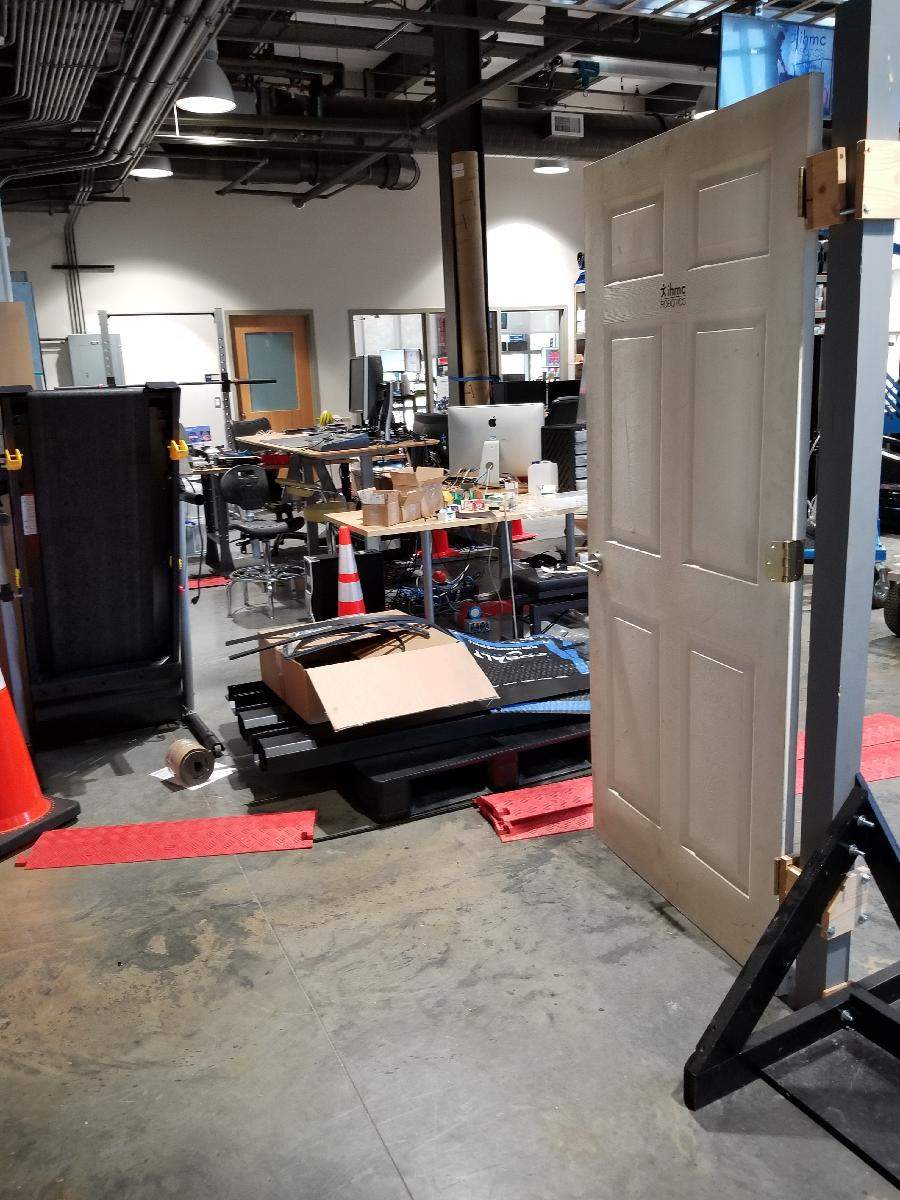door: (576, 66, 826, 1007)
doorHandle: (577, 554, 626, 575)
